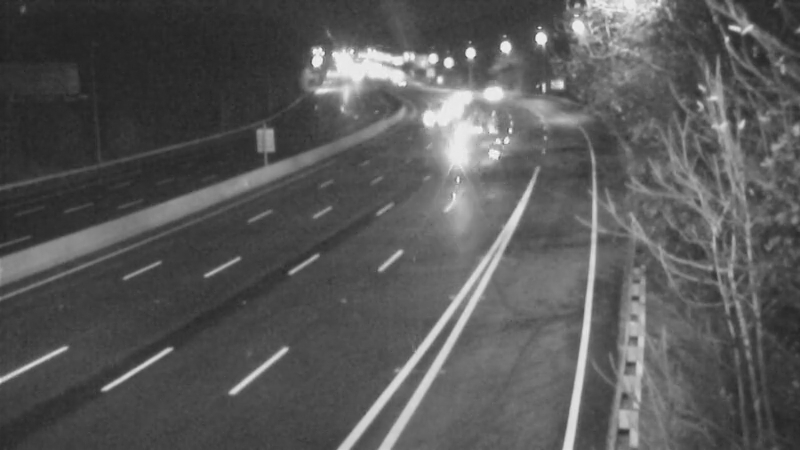vehicle: (472, 67, 522, 117), (437, 70, 487, 120), (429, 86, 479, 136), (404, 86, 454, 136), (449, 111, 499, 161)
